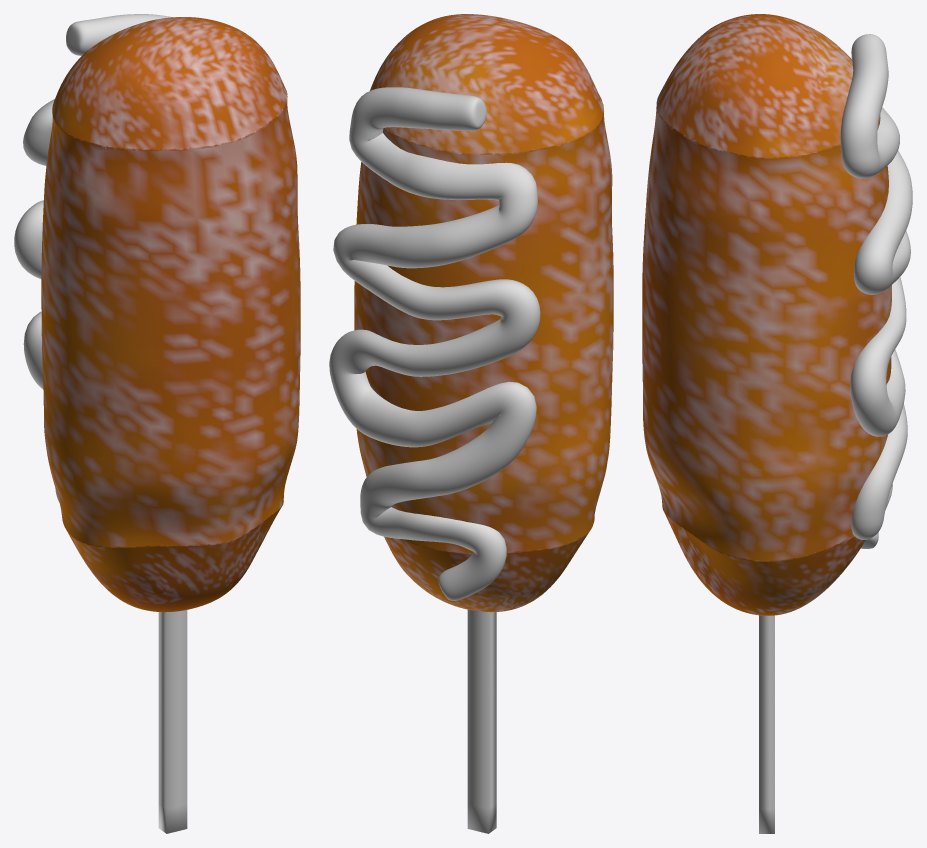
Rendered from Hotdog_.fbx.
3 views of the same model, side by side, from view 1: azimuth 30°, elevation 25°; view 2: azimuth 150°, elevation 25°; view 3: azimuth 270°, elevation 25° (orthographic).
Visible parts, largest first — view 1: 원통 5, 상자, 튜브; view 2: 원통 5, 튜브, 상자; view 3: 원통 5, 튜브, 상자.
Part boxes in pixels (x1,y1,x2,y2): 원통 5: (41,17,300,612); 상자: (158,610,187,833); 튜브: (14,14,172,502); 원통 5: (354,14,613,612); 튜브: (329,87,540,600); 상자: (467,609,496,833); 원통 5: (642,14,891,615); 튜브: (840,34,912,548); 상자: (759,615,774,833).
Bounding box in the file's own units: 0.4116 × 1.39 × 0.426.
